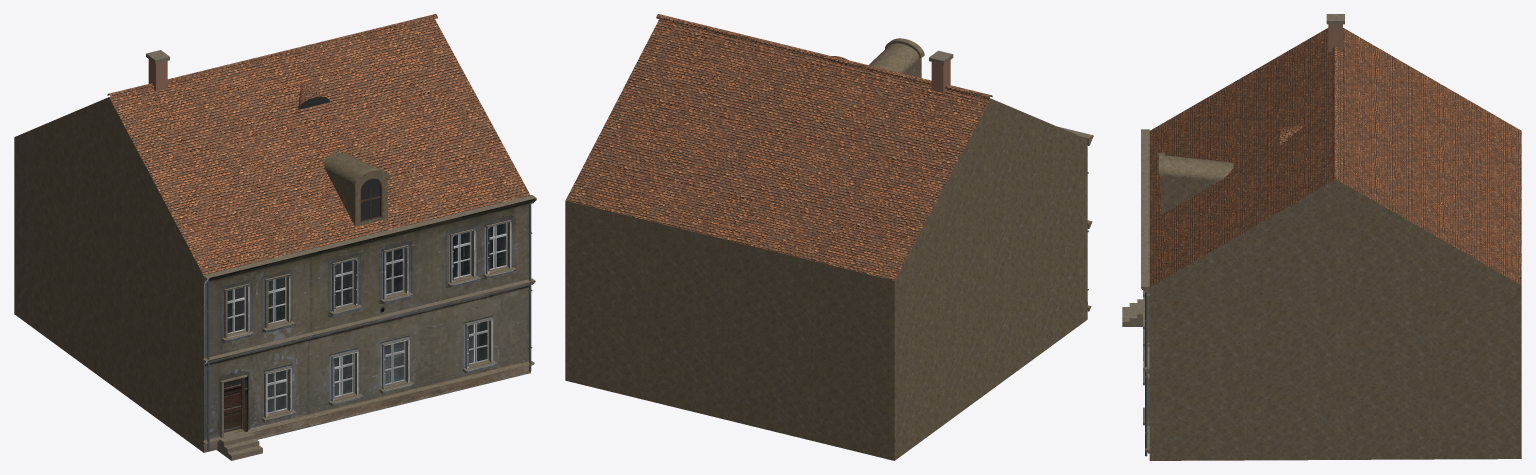
3 renders of one model, left to right at view 1: azimuth 30°, elevation 25°; view 2: azimuth 150°, elevation 25°; view 3: azimuth 270°, elevation 25°, orthographic. The views are drawn at different scales.
Visible parts, largest first — view 1: CP_261_Roof, CP_261_Masonry_With_Openings, CP_261_Frames_Sills_And_Cornices, CP_261_Individual_Photographic_Panes, CP_261_Timber_Frames, CP_261_Roof_Dormers, CP_261_Metal_Gutters_And_Downpipes, CP_261_Entrance_Three_Steps_PROVISIONAL, CP_261_Glazing_And_Doors, CP_261_Chimney, CP_261_Dormer_Glass; view 2: CP_261_Masonry_With_Openings, CP_261_Roof, CP_261_Roof_Dormers, CP_261_Chimney; view 3: CP_261_Roof, CP_261_Masonry_With_Openings, CP_261_Roof_Dormers, CP_261_Frames_Sills_And_Cornices, CP_261_Chimney, CP_261_Entrance_Three_Steps_PROVISIONAL, CP_261_Metal_Gutters_And_Downpipes.
Part boxes in pixels (bbox=[...]): CP_261_Roof: bbox=[14, 14, 530, 274]; CP_261_Masonry_With_Openings: bbox=[14, 137, 530, 452]; CP_261_Frames_Sills_And_Cornices: bbox=[202, 195, 536, 445]; CP_261_Individual_Photographic_Panes: bbox=[227, 223, 505, 412]; CP_261_Timber_Frames: bbox=[227, 223, 507, 429]; CP_261_Roof_Dormers: bbox=[324, 152, 387, 226]; CP_261_Metal_Gutters_And_Downpipes: bbox=[206, 200, 534, 450]; CP_261_Entrance_Three_Steps_PROVISIONAL: bbox=[217, 429, 262, 460]; CP_261_Glazing_And_Doors: bbox=[224, 378, 241, 432]; CP_261_Chimney: bbox=[146, 50, 169, 91]; CP_261_Dormer_Glass: bbox=[361, 179, 379, 220]; CP_261_Masonry_With_Openings: bbox=[565, 140, 1087, 460]; CP_261_Roof: bbox=[565, 14, 1087, 280]; CP_261_Roof_Dormers: bbox=[869, 43, 921, 77]; CP_261_Chimney: bbox=[929, 50, 953, 92]; CP_261_Roof: bbox=[1149, 28, 1521, 287]; CP_261_Masonry_With_Openings: bbox=[1149, 285, 1521, 460]; CP_261_Roof_Dormers: bbox=[1161, 155, 1233, 214]; CP_261_Frames_Sills_And_Cornices: bbox=[1141, 129, 1149, 453]; CP_261_Chimney: bbox=[1326, 14, 1344, 51]; CP_261_Entrance_Three_Steps_PROVISIONAL: bbox=[1122, 299, 1143, 326]; CP_261_Metal_Gutters_And_Downpipes: bbox=[1145, 292, 1147, 456].
Bounding box in the file's own units: 13.85 × 12.74 × 14.82.
11 materials, 8 textured.
